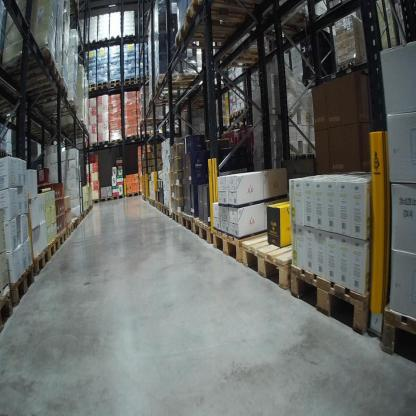pallet: (290, 258, 375, 342), (240, 226, 327, 291), (212, 210, 292, 267), (184, 0, 268, 32), (2, 44, 57, 92), (171, 21, 248, 54), (260, 8, 317, 48), (382, 303, 414, 361), (10, 257, 35, 316), (217, 44, 271, 70), (30, 82, 70, 110), (20, 71, 62, 96), (180, 201, 207, 237), (151, 74, 198, 94), (147, 91, 183, 111), (337, 56, 366, 80), (193, 217, 214, 250), (184, 88, 221, 106), (1, 286, 14, 337), (48, 98, 78, 120), (33, 247, 51, 277), (47, 233, 60, 264), (64, 122, 87, 136), (172, 208, 184, 227), (57, 226, 67, 248), (163, 205, 176, 218), (100, 193, 113, 206), (66, 221, 74, 241), (97, 83, 109, 95), (70, 215, 78, 233), (126, 189, 140, 199), (112, 193, 125, 203), (97, 137, 110, 147), (135, 77, 148, 87), (109, 81, 122, 91), (236, 107, 252, 115), (137, 131, 151, 140), (227, 110, 237, 122), (109, 135, 123, 143), (121, 80, 137, 87), (123, 133, 138, 140), (92, 197, 102, 207), (82, 141, 97, 147), (159, 200, 164, 215), (86, 86, 97, 92), (155, 199, 160, 211), (81, 210, 86, 222), (78, 214, 82, 227), (151, 199, 155, 207)
